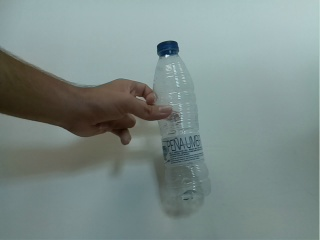botella plastico: (151, 39, 214, 205)
